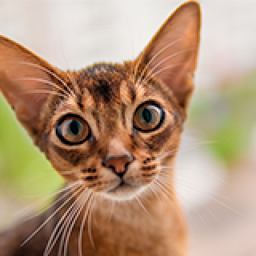cat: (2, 1, 213, 254)
